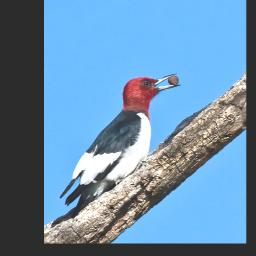Woodpecker: (57, 70, 183, 210)
